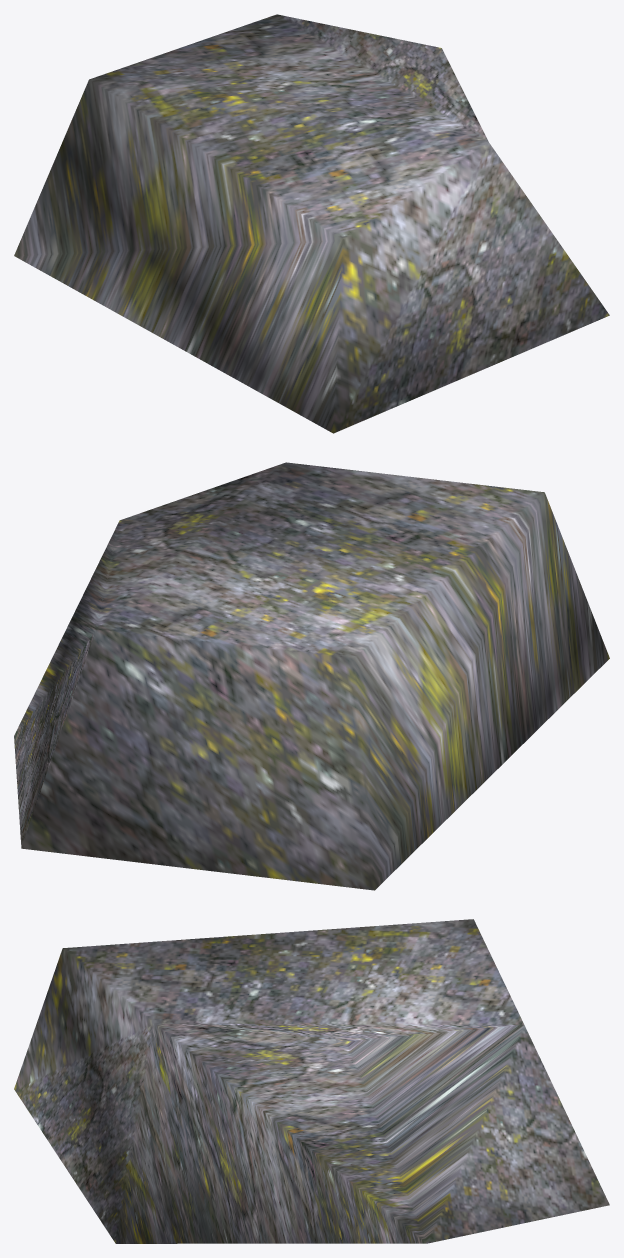
The model's file is rock_weatheredmossy_medium_a1_l2.fbx.
3 views of the same model, one above another, from view 1: azimuth 30°, elevation 25°; view 2: azimuth 150°, elevation 25°; view 3: azimuth 270°, elevation 25° (orthographic). The views are drawn at different scales.
Visible parts, largest first — view 1: mesh_node; view 2: mesh_node; view 3: mesh_node.
Part boxes in pixels (x1=…): mesh_node: x1=14, y1=14, x2=609, y2=433; mesh_node: x1=14, y1=462, x2=609, y2=890; mesh_node: x1=14, y1=919, x2=609, y2=1243.
Size of the model in its own units: 0.305 by 0.1463 by 0.4247.
1 material, 1 textured.
